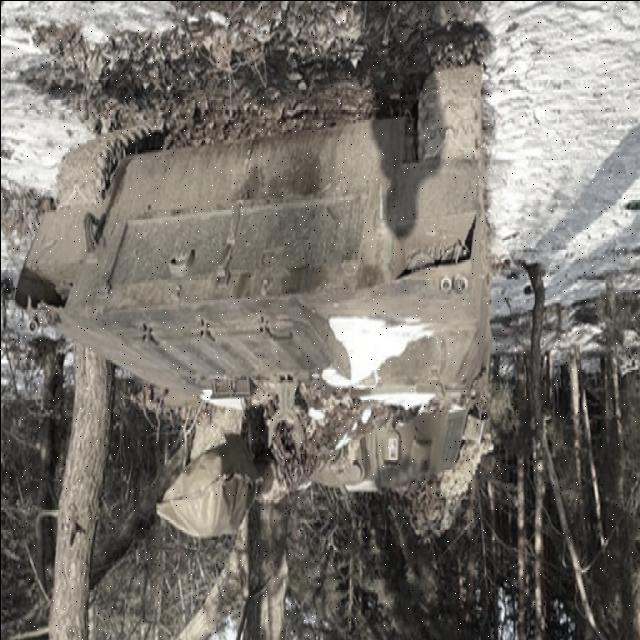ART: (12, 47, 492, 509)
